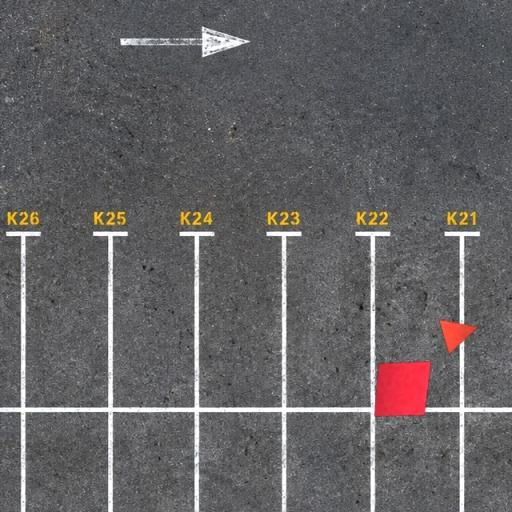RED_SQUARE: (374, 360, 432, 418)
